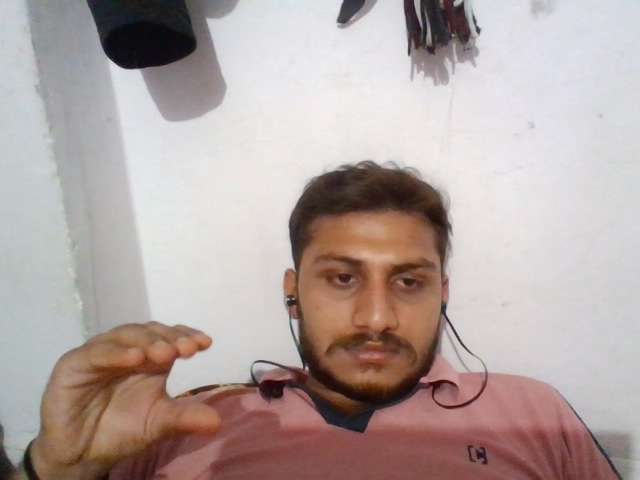No: (39, 314, 237, 455)
